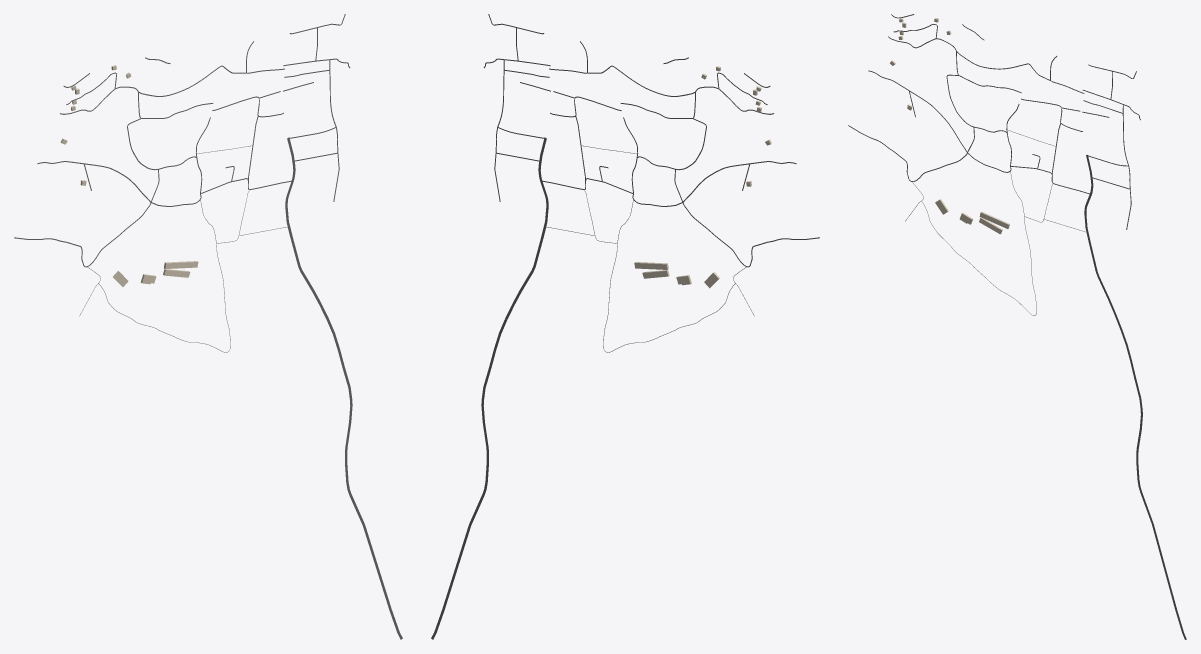
Rendered from historic-palestine-11_27_3534_3211.glb.
3 renders of one model, left to right at view 1: azimuth 30°, elevation 25°; view 2: azimuth 150°, elevation 25°; view 3: azimuth 330°, elevation 25°, orthographic. The views are drawn at different scales.
Visible parts, largest first — view 1: Road Majdal Bani Fadil; view 2: Road Majdal Bani Fadil; view 3: Road Majdal Bani Fadil.
Boxes of the visible parts, bbox=[...] form: Road Majdal Bani Fadil: bbox=[285, 137, 402, 639]; Road Majdal Bani Fadil: bbox=[431, 137, 548, 639]; Road Majdal Bani Fadil: bbox=[1084, 155, 1186, 639].
Size of the model in its own units: 1307 by 2071 by 9.09.
